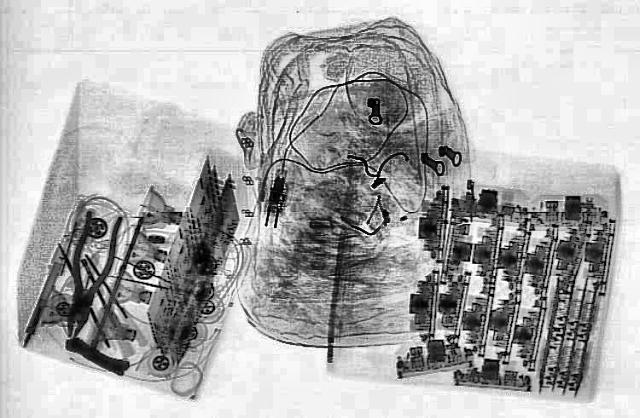Pliers: (49, 209, 124, 341)
